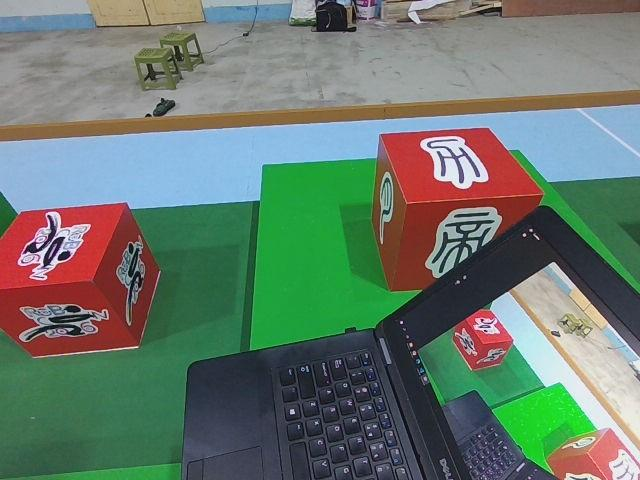R1: (0, 201, 160, 359)
R2 Fake: (371, 125, 543, 301)
